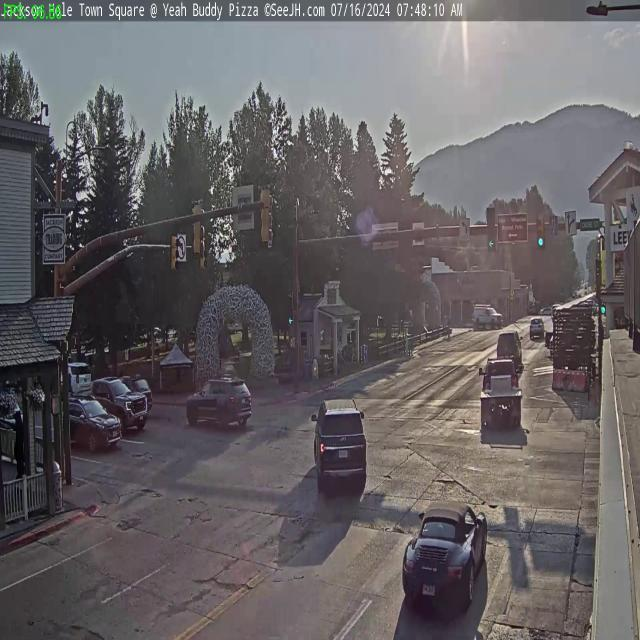pickup: (90, 376, 150, 432)
sedan: (401, 501, 488, 612)
suv: (312, 396, 368, 489), (185, 370, 253, 436), (61, 395, 122, 452), (528, 317, 544, 337)
traffic light: (190, 199, 203, 257), (260, 184, 272, 246), (486, 207, 497, 249), (170, 235, 178, 275), (537, 214, 545, 248)
truck: (481, 358, 518, 424)
